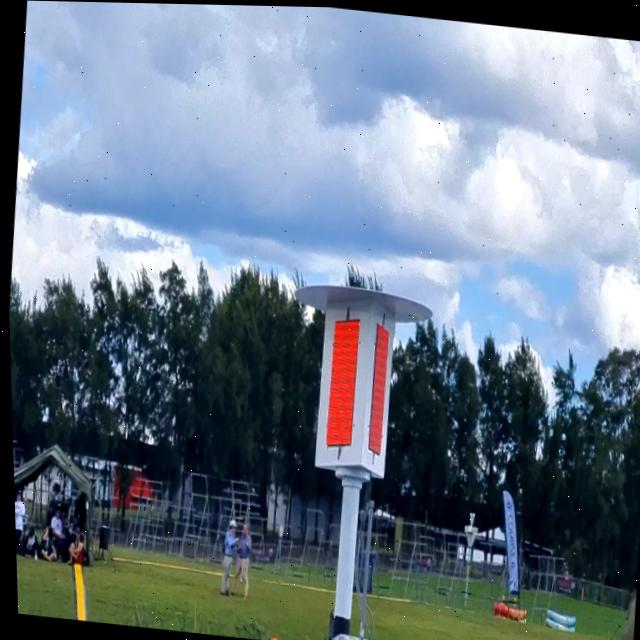led: (314, 304, 366, 452), (360, 307, 392, 464)
